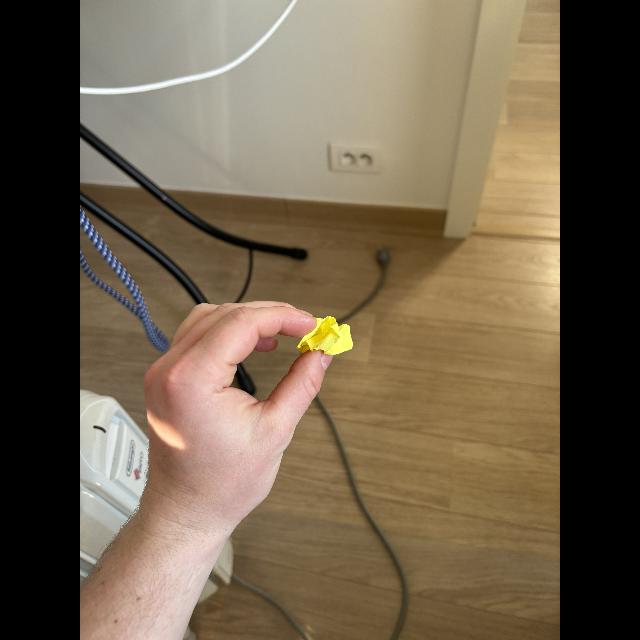Paper: (288, 308, 360, 370)
